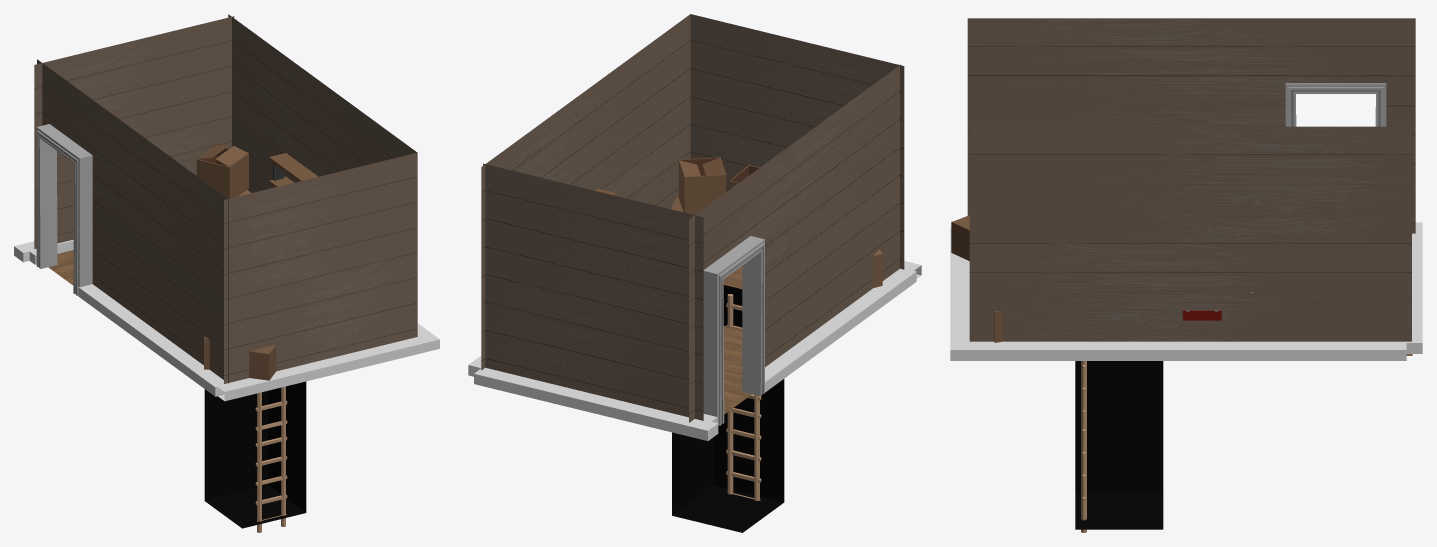
Rendered from basement_entry.gltf.
3 views of the same model, side by side, from view 1: azimuth 30°, elevation 25°; view 2: azimuth 150°, elevation 25°; view 3: azimuth 270°, elevation 25° (orthographic). The views are drawn at different scales.
Parts seen in each view (by area): view 1: Wall Standard (Corner) Alt.001, Wall Standard (Door).007, Wall Standard.006, Plane.005, Door Frame 2.005, Wall Standard (Corner) Border.008, Wall Standard Border.025, Box.003, Ladder 2.002, Modern Shelves.002, Box.012, Ladder 2.001 (+2 smaller); view 2: Wall Standard.006, Wall Standard (Corner) Alt.001, Wall Standard (Door).007, Plane.005, Door Frame 2.005, Wall Standard Border.016, Wall Standard Border.025, Box.007, Ladder 2.002; view 3: Wall Standard (Corner) Alt.001, Wall Standard (Door).007, Plane.005, Wall Standard (Corner) Border.008, Door Frame 2.005, Wall Standard Border.016, Ladder 2.002, Box.012.
Part boxes in pixels (<box>): Wall Standard (Corner) Alt.001: <box>224,14,417,383</box>; Wall Standard (Door).007: <box>37,59,228,383</box>; Wall Standard.006: <box>34,16,234,248</box>; Plane.005: <box>48,250,306,528</box>; Door Frame 2.005: <box>36,124,92,295</box>; Wall Standard (Corner) Border.008: <box>218,323,439,401</box>; Wall Standard Border.025: <box>78,284,230,396</box>; Box.003: <box>196,148,248,198</box>; Ladder 2.002: <box>255,429,287,532</box>; Modern Shelves.002: <box>269,153,318,187</box>; Box.012: <box>249,345,276,380</box>; Ladder 2.001: <box>255,386,287,438</box>; Wall Standard.006: <box>483,163,703,420</box>; Wall Standard (Corner) Alt.001: <box>481,14,904,370</box>; Wall Standard (Door).007: <box>689,64,900,422</box>; Plane.005: <box>672,266,784,532</box>; Door Frame 2.005: <box>703,236,764,425</box>; Wall Standard Border.016: <box>474,368,718,440</box>; Wall Standard Border.025: <box>765,268,916,392</box>; Box.007: <box>678,157,726,214</box>; Ladder 2.002: <box>726,406,761,500</box>; Wall Standard (Corner) Alt.001: <box>969,126,1411,341</box>; Wall Standard (Door).007: <box>967,18,1415,233</box>; Plane.005: <box>1075,354,1412,529</box>; Wall Standard (Corner) Border.008: <box>950,227,1406,360</box>; Door Frame 2.005: <box>1285,83,1386,126</box>; Wall Standard Border.016: <box>1406,222,1422,353</box>; Ladder 2.002: <box>1081,419,1086,532</box>; Box.012: <box>951,216,969,260</box>.
Size of the model in its own units: 3.63 by 6.02 by 5.67.
4 materials, 3 textured.
